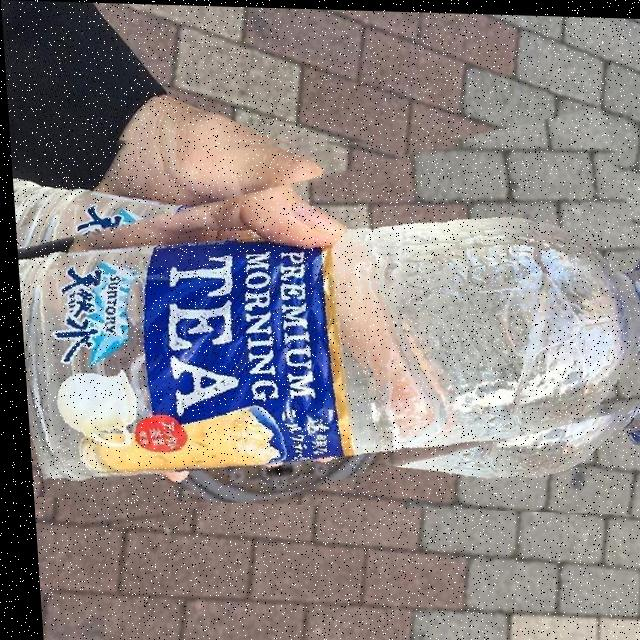litter: (7, 125, 640, 512)
